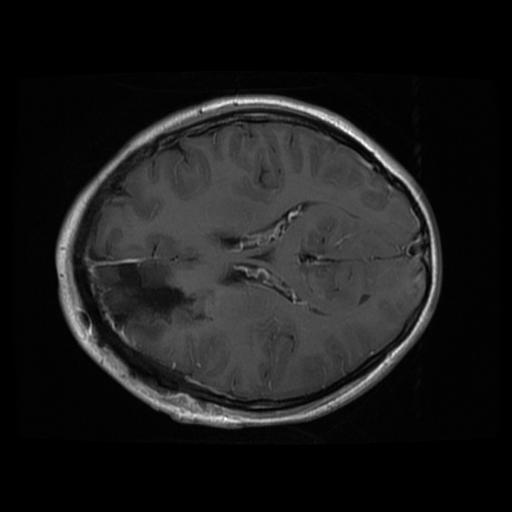glioma: (93, 260, 195, 337)
